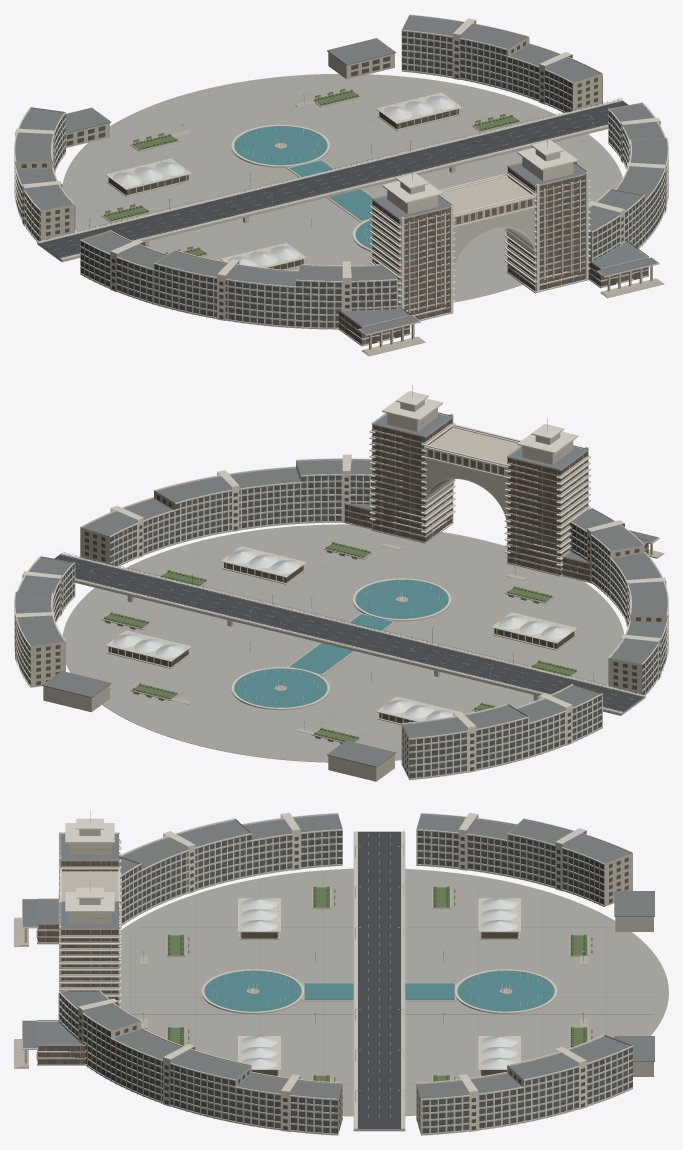
The model's file is arch-r5.glb.
The picture shows the model from 3 angles, top to bottom: view 1: azimuth 30°, elevation 25°; view 2: azimuth 150°, elevation 25°; view 3: azimuth 270°, elevation 25°; orthographic projection. The views are drawn at different scales.
Parts seen in each view (by area): view 1: Court paving, Court cornice, Court roof, Court limestone, Court asphalt, Portal Arch frame, Portal Arch stone, Court window0, Court water, Court window3, Court window1, Court window2 (+9 smaller); view 2: Court paving, Court cornice, Court limestone, Court roof, Court asphalt, Portal Arch stone, Portal Arch frame, Court water, Court window0, Court window3, Court window1, Court window2 (+9 smaller); view 3: Court paving, Court cornice, Court limestone, Court roof, Court asphalt, Court water, Court window0, Court window1, Court window3, Court window2, Portal Arch frame, Portal Arch stone (+10 smaller).
Boxes of the visible parts, x1=… form: Court paving: x1=62, y1=73, x2=622, y2=307; Court cornice: x1=14, y1=14, x2=668, y2=350; Court roof: x1=15, y1=16, x2=667, y2=334; Court limestone: x1=14, y1=15, x2=668, y2=356; Court asphalt: x1=39, y1=101, x2=627, y2=258; Portal Arch frame: x1=341, y1=135, x2=648, y2=344; Portal Arch stone: x1=338, y1=149, x2=648, y2=346; Court window0: x1=15, y1=32, x2=667, y2=327; Court water: x1=234, y1=126, x2=372, y2=248; Court window3: x1=15, y1=31, x2=667, y2=327; Court window1: x1=15, y1=32, x2=667, y2=327; Court window2: x1=15, y1=33, x2=667, y2=327; Court paving: x1=62, y1=524, x2=624, y2=762; Court cornice: x1=14, y1=454, x2=668, y2=779; Court limestone: x1=14, y1=460, x2=668, y2=781; Court roof: x1=15, y1=460, x2=667, y2=767; Court asphalt: x1=54, y1=554, x2=643, y2=711; Portal Arch stone: x1=341, y1=400, x2=648, y2=582; Portal Arch frame: x1=347, y1=385, x2=647, y2=578; Court water: x1=234, y1=580, x2=448, y2=707; Court window0: x1=16, y1=476, x2=667, y2=778; Court window3: x1=16, y1=475, x2=667, y2=775; Court window1: x1=16, y1=475, x2=667, y2=777; Court window2: x1=16, y1=475, x2=667, y2=776; Court paving: x1=119, y1=868, x2=668, y2=1116; Court cornice: x1=22, y1=813, x2=632, y2=1135; Court limestone: x1=14, y1=814, x2=653, y2=1135; Court roof: x1=22, y1=814, x2=654, y2=1098; Court asphalt: x1=358, y1=831, x2=400, y2=1128; Court water: x1=204, y1=971, x2=554, y2=1011; Court window0: x1=59, y1=830, x2=632, y2=1133; Court window1: x1=59, y1=831, x2=632, y2=1133; Court window3: x1=59, y1=831, x2=632, y2=1132; Court window2: x1=59, y1=831, x2=632, y2=1132; Portal Arch frame: x1=38, y1=810, x2=121, y2=1063; Portal Arch stone: x1=37, y1=829, x2=119, y2=1065.
Bounding box in the file's own units: 328 × 76.5 × 306.
